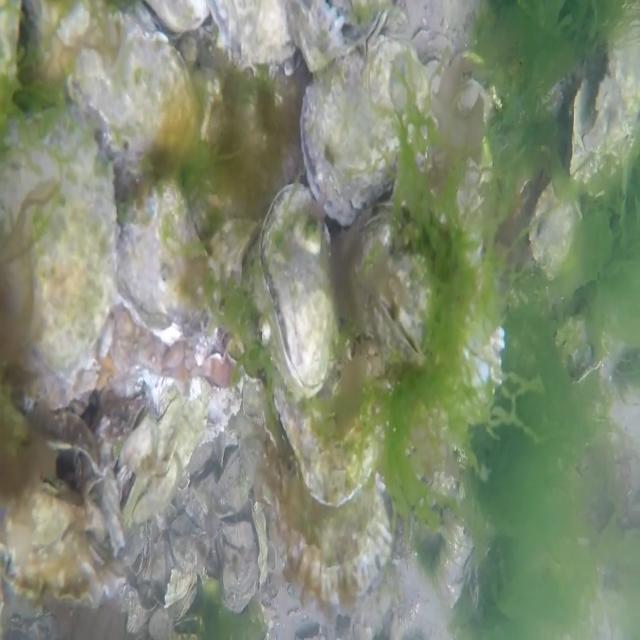Oyster-Closed: (0, 112, 116, 379), (300, 11, 428, 225), (67, 17, 196, 156), (252, 184, 336, 396), (116, 180, 208, 347), (285, 0, 389, 72), (529, 185, 579, 278)
Oyster-Indeterminate: (353, 208, 506, 429), (275, 299, 397, 506), (270, 425, 393, 609), (124, 397, 206, 523), (9, 532, 125, 604), (0, 483, 93, 555), (568, 73, 628, 180), (206, 0, 294, 68), (223, 522, 260, 614), (210, 444, 253, 518)
Oyster-Open: (28, 410, 106, 499), (417, 47, 443, 90)
